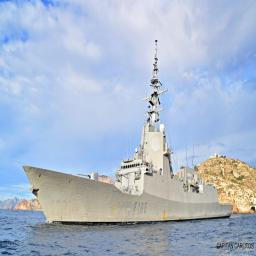Fragata: (22, 30, 236, 229)
